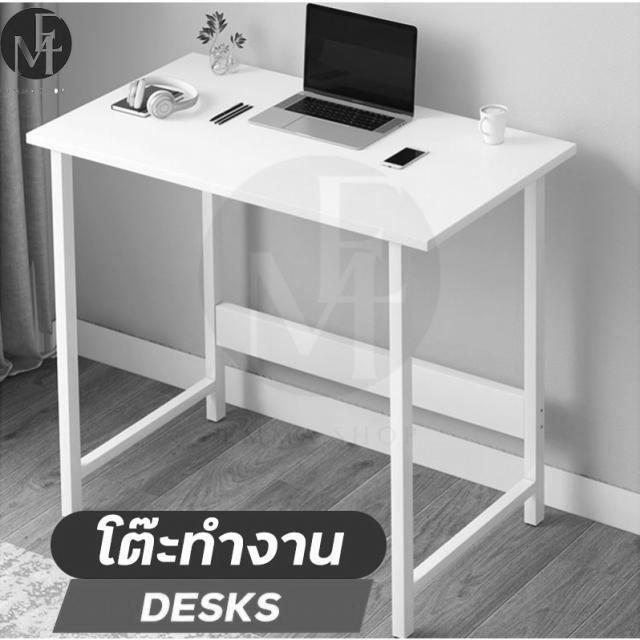table: (20, 39, 590, 259)
